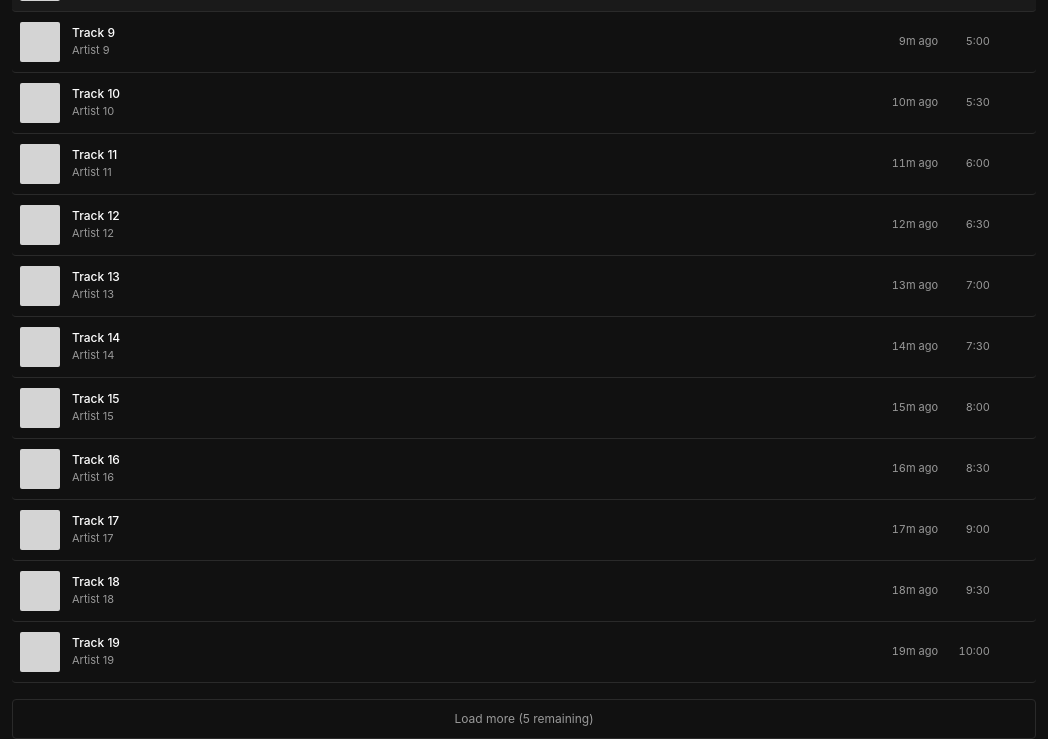
Test: ListeningHistory › shows more items after load-more click
(page scrolled)
Click the button "Load more (5 remaining)" at (524, 718), box [12, 698, 1036, 738]
(page scrolled)
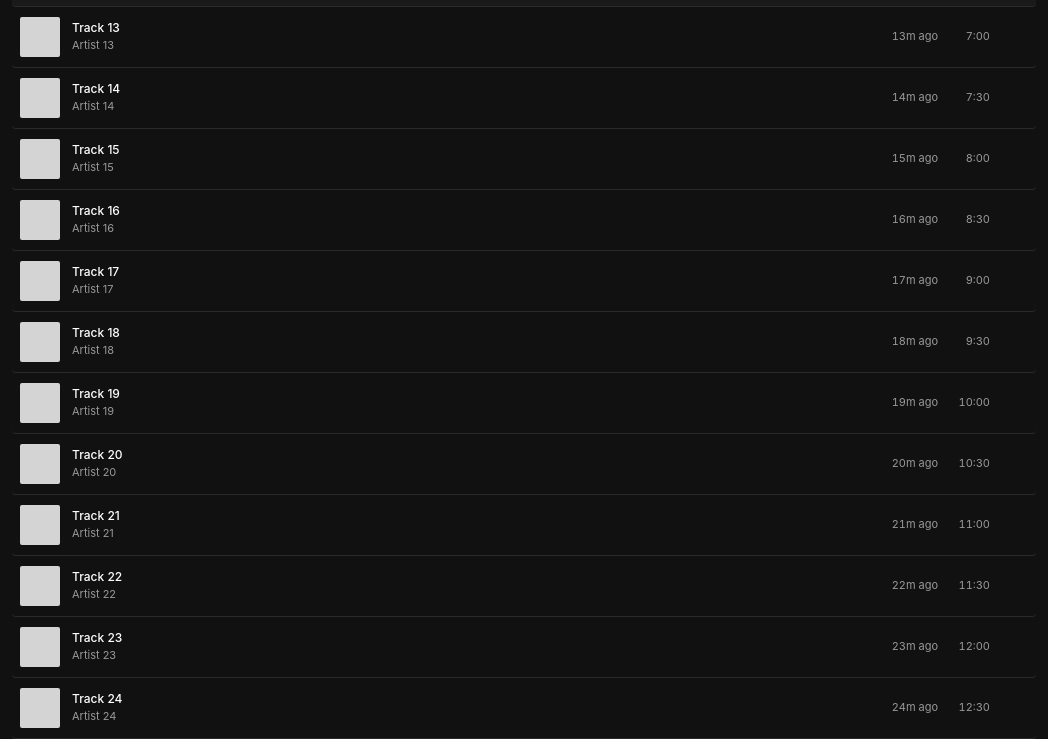
Expected: the button "Track 20 Artist 20 20m ago 10:30" is shown, [12, 434, 1036, 494]
